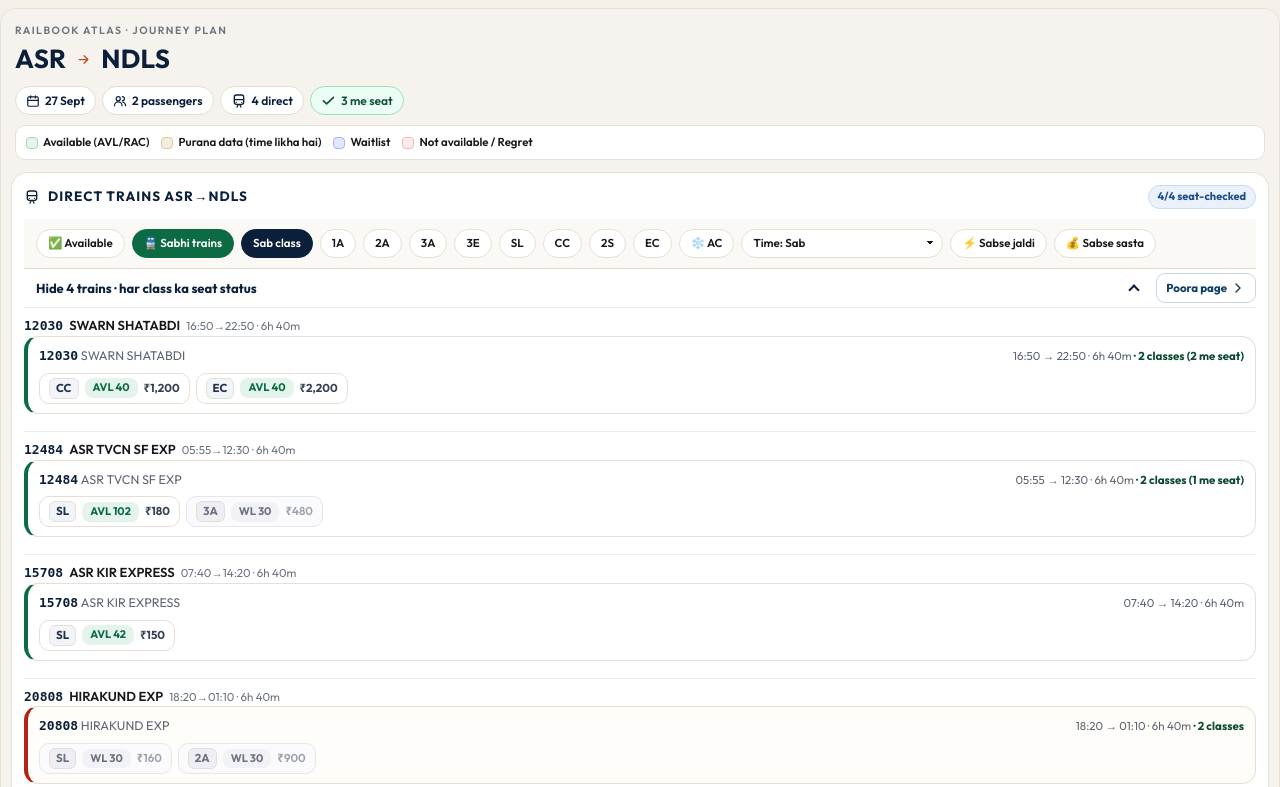
Test: Round-22 · direct card ke shuru me Seat Finder wale filters › filter note honest line + Clear sab reset karta hai
The image size is (1280, 787).
What coordinates should you click on to do the following:
click the button titled "Sirf AVAILABLE aur RAC wali trains"
I would click on:
 (80, 243)
Its box is [36,229,125,258].
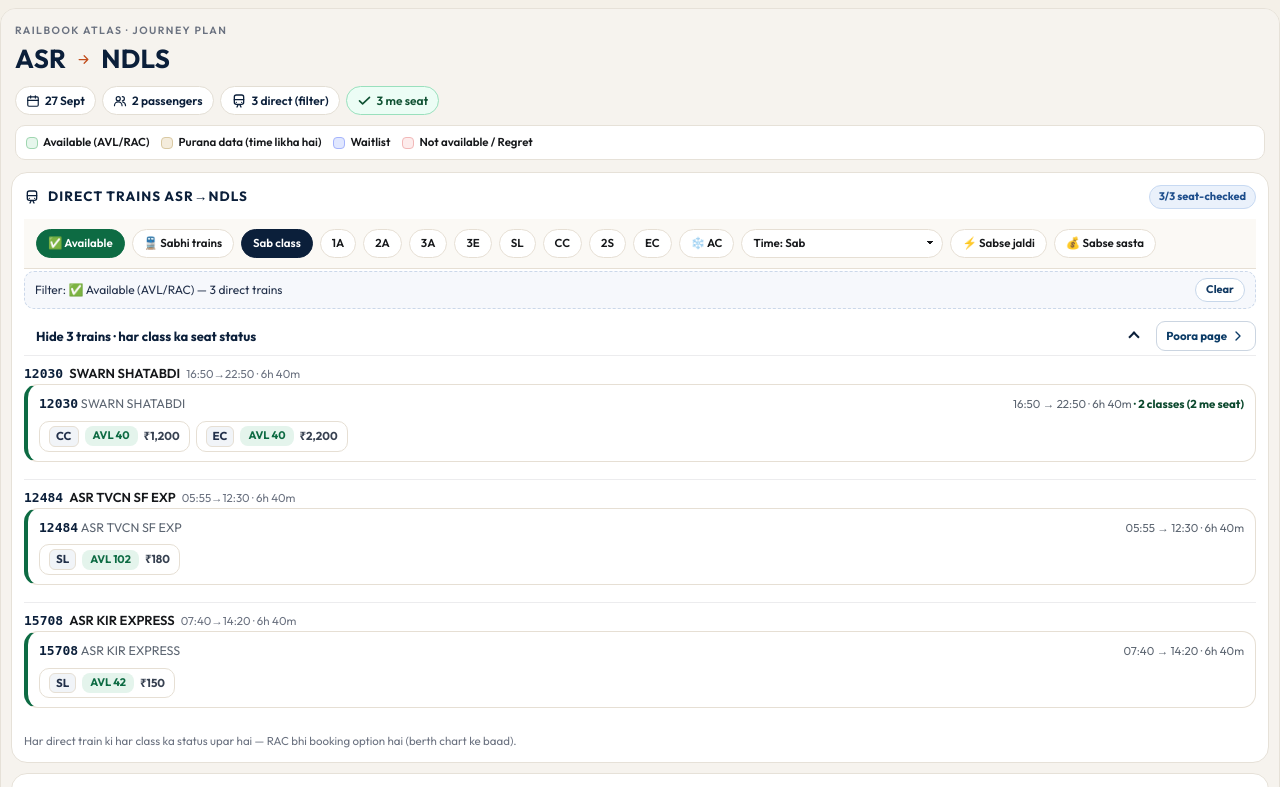
Now the element with class "jx-sb-filternote" is shown, box [24,271,1256,308]
Now the element with class "jx-sb-filternote" shows "Available (AVL/RAC)", box [69,282,194,297]
What coordinates should you click on to do the following:
click the button with class "jx-sb-filternote-clear"
I would click on:
 (1220, 290)
Its box is [1195,278,1245,302].
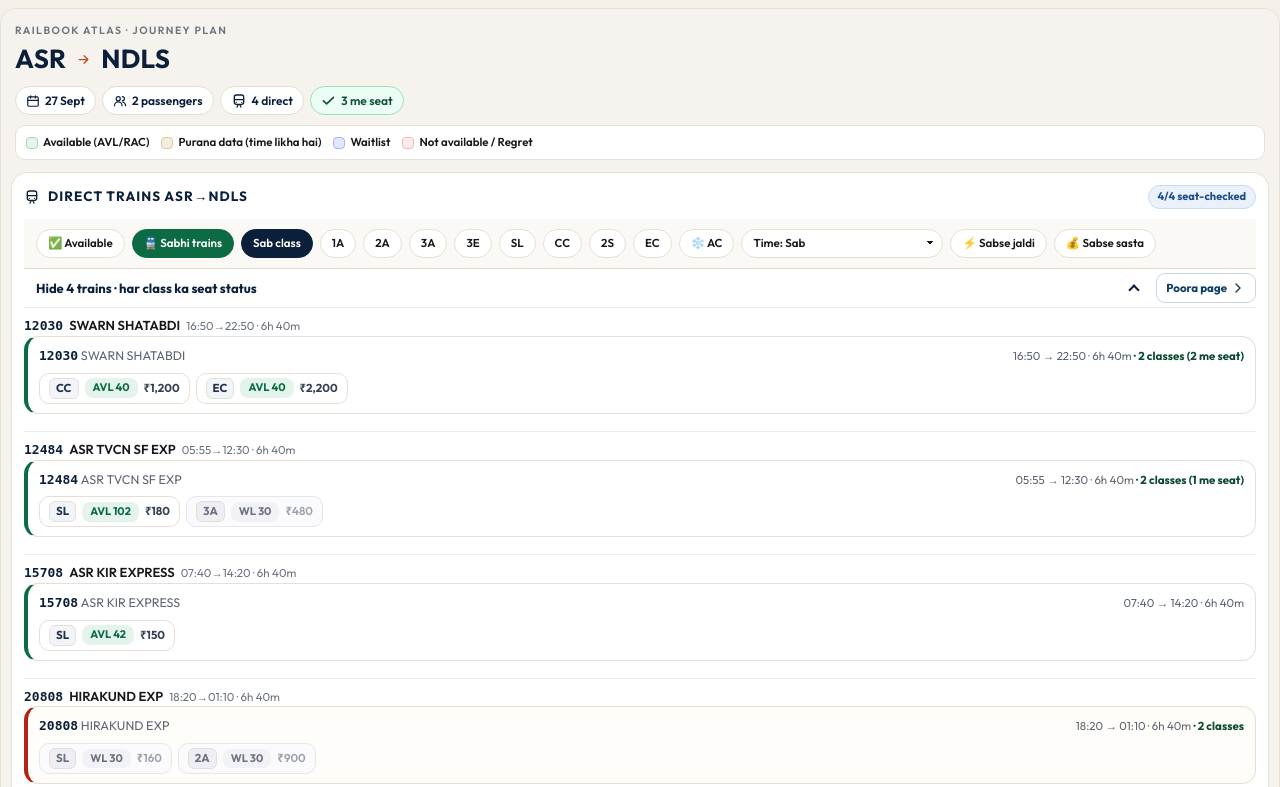
Now the element with class "jx-sb-filternote" is gone
